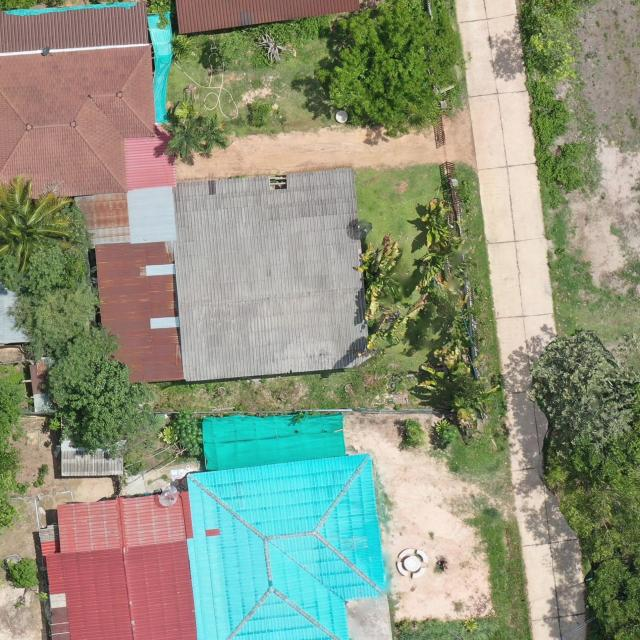Tree: (535, 393, 640, 640), (323, 0, 457, 138), (525, 325, 640, 458), (47, 356, 148, 455), (0, 196, 96, 296), (7, 274, 109, 358), (0, 171, 80, 274), (416, 341, 501, 431), (42, 325, 124, 411), (352, 232, 402, 328), (523, 14, 583, 86), (405, 274, 470, 339), (417, 234, 484, 288), (160, 101, 205, 159), (8, 556, 49, 609), (192, 110, 234, 155), (168, 406, 204, 458), (422, 197, 452, 250), (434, 418, 458, 448)
